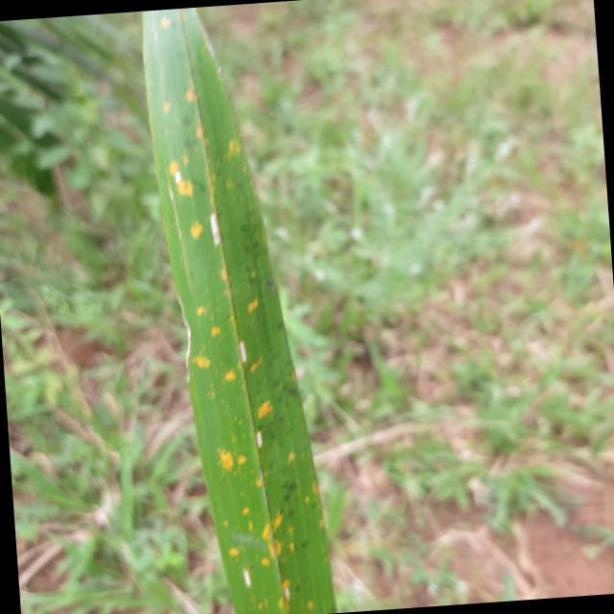Kalium: (139, 1, 339, 614)
